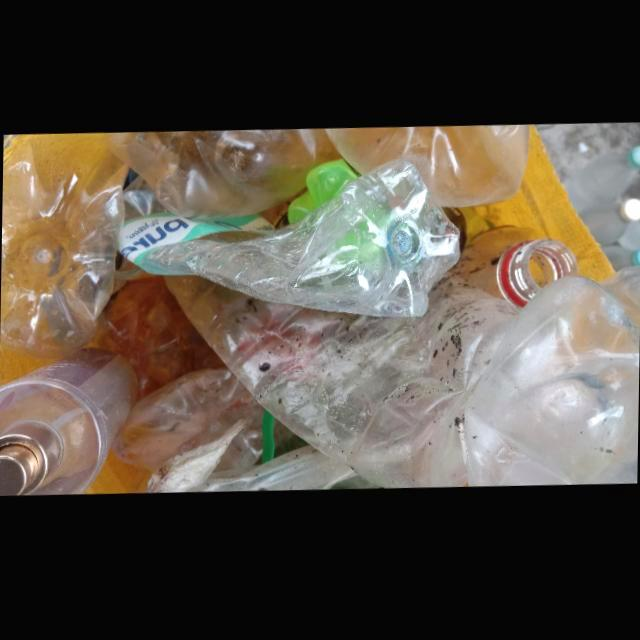plastic_bottle: (172, 270, 640, 490), (118, 162, 462, 320), (0, 132, 128, 358), (107, 130, 342, 219), (0, 348, 139, 495), (325, 127, 528, 211), (441, 228, 578, 311)
